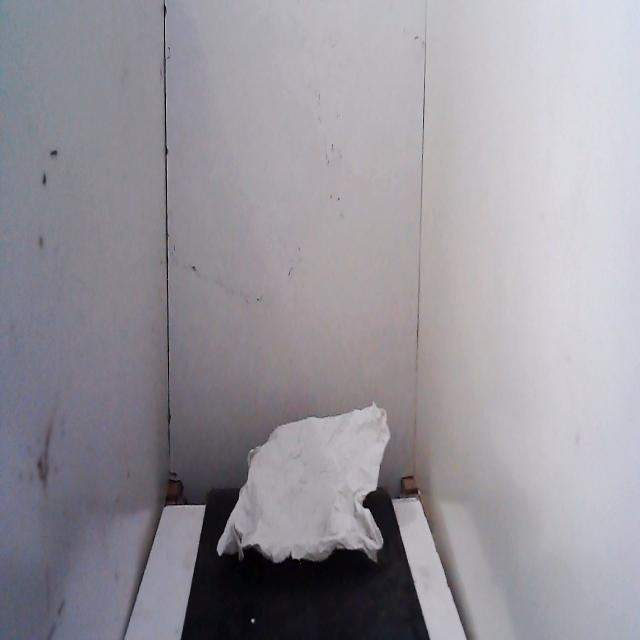paper: (212, 376, 394, 611)
